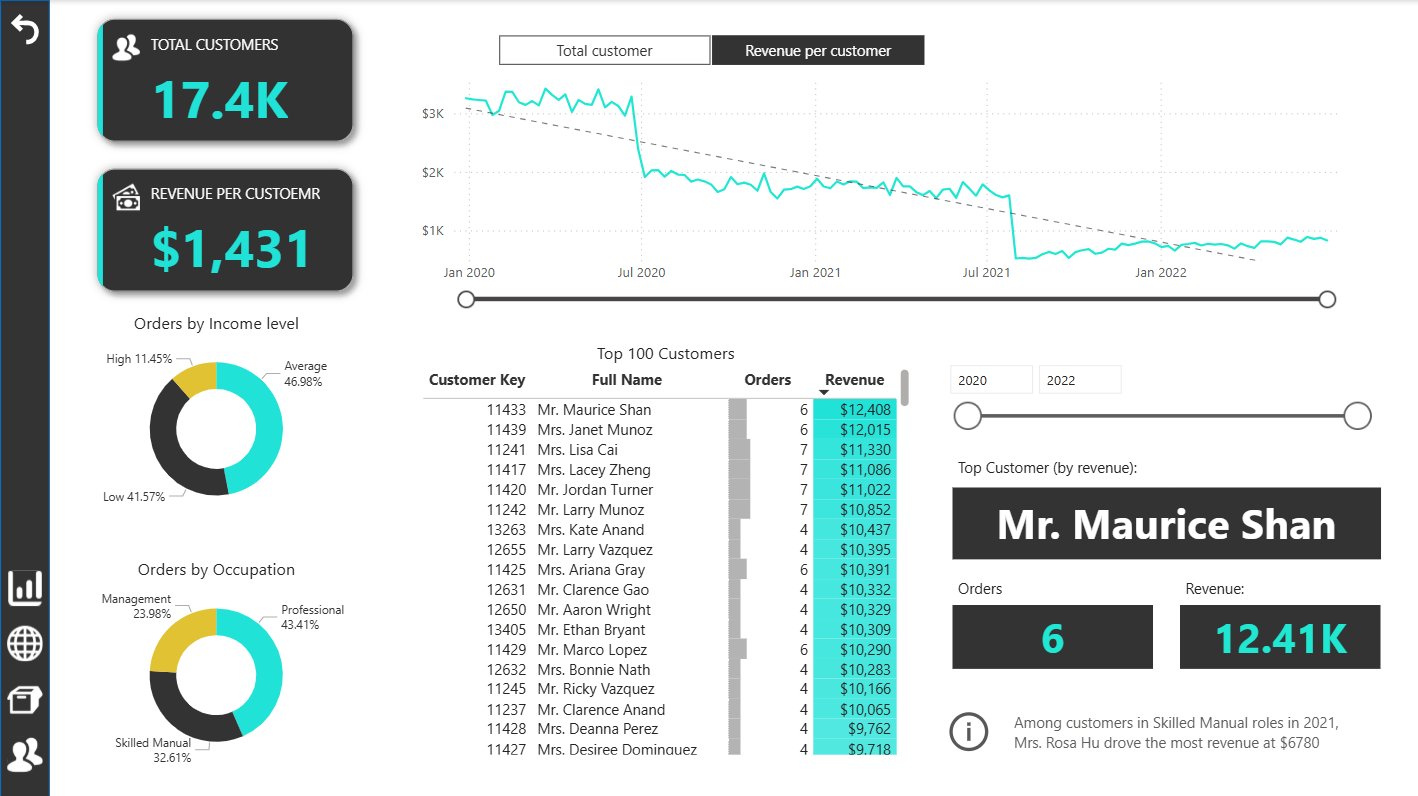

Layout of this report page (visuals, bound fields, positions):
{"tool":"powerbi","page":{"name":"Customer details","canvas":[1280,720],"ordinal":3},"visuals":[{"type":"shape","title":"Left Nav Background","box":[0,0,45,719.5],"z":0},{"type":"actionButton","box":[0,511.1,45.2,40.4],"z":0,"group":"g1"},{"type":"actionButton","box":[0,611.4,45.2,40.4],"z":1000,"group":"g1"},{"type":"lineChart","title":"Customers Trending","fields":{"Y":["Measure Table.AVG Revenue per customer"],"Category":["Calendar Lookup.Date Hierarchy.Start of Year","Calendar Lookup.Date Hierarchy.Start of Month","Calendar Lookup.Date Hierarchy.Start of Week","Calendar Lookup.Date Hierarchy.Date"]},"box":[375.9,62.1,850.6,218.4],"z":2000},{"type":"actionButton","box":[0,661.5,45.2,40.4],"z":2000,"group":"g1"},{"type":"donutChart","title":"Orders by Income level","fields":{"Category":["Customer Lookup.Income level"],"Y":["Measure Table.Total orders"]},"box":[70.4,280.2,250.6,192.6],"z":3000},{"type":"actionButton","box":[0,561.2,45.2,40.4],"z":3000,"group":"g1"},{"type":"donutChart","title":"Orders by Occupation","fields":{"Y":["Measure Table.Total orders"],"Category":["Customer Lookup.Occupation"]},"box":[70.4,502.5,250.6,192.6],"z":4000},{"type":"tableEx","title":"Top 100 Customers","fields":{"Values":["Customer Lookup.CustomerKey","Customer Lookup.Full Name","Measure Table.Total orders","Measure Table.Total Revenue"]},"box":[375.4,308.2,450,377.9],"z":5000},{"type":"slicer","fields":{"Values":["Calendar Lookup.Year"]},"box":[843.8,319.2,401.1,86.8],"z":6000},{"type":"card","fields":{"Values":["Customer Lookup.Full Name (Customer Details)"]},"box":[858.4,440,386.4,64.8],"z":7000},{"type":"textbox","box":[858.4,407.2,221.3,34.2],"z":8000},{"type":"textbox","box":[1063.9,516.2,181,34.2],"z":9000},{"type":"textbox","box":[858.4,516.2,181,34.2],"z":10000},{"type":"card","fields":{"Values":["Measure Table.Total Orders (Customer Details)"]},"box":[858.4,545.1,181,57.5],"z":11000},{"type":"card","fields":{"Values":["Measure Table.Total Revenue (Customer Details)"]},"box":[1063.9,545.1,181,57.5],"z":12000},{"type":"actionButton","box":[843.8,626.1,382.7,68.5],"z":13000},{"type":"actionButton","box":[0,0,45.2,51.4],"z":14000},{"type":"group","id":"g1","title":"Navigation Icon","box":[0,511.1,45.2,190.8],"z":15000},{"type":"slicer","fields":{"Values":["Customer metric selection.Customer metric selection"]},"box":[424.1,25.3,433.3,36.8],"z":16000},{"type":"cardVisual","title":"KPIs","fields":{"Data":["Measure Table.Total customer","Measure Table.AVG Revenue per customer"]},"box":[70.9,0,265.4,281.3],"z":17000}]}

Visuals, with their boxes on the page's 1280x720 design canvas (x1, y1, x2, y2). These are canvas units, not pixel positions in the 1418x796 screenshot, which may show the page scaled, cropped or inside an application window:
"Left Nav Background" shape: [x1=0, y1=0, x2=45, y2=720]
actionButton: [x1=0, y1=511, x2=45, y2=552]
actionButton: [x1=0, y1=611, x2=45, y2=652]
"Customers Trending" lineChart: [x1=376, y1=62, x2=1226, y2=280]
actionButton: [x1=0, y1=662, x2=45, y2=702]
"Orders by Income level" donutChart: [x1=70, y1=280, x2=321, y2=473]
actionButton: [x1=0, y1=561, x2=45, y2=602]
"Orders by Occupation" donutChart: [x1=70, y1=502, x2=321, y2=695]
"Top 100 Customers" tableEx: [x1=375, y1=308, x2=825, y2=686]
slicer - Calendar Lookup.Year: [x1=844, y1=319, x2=1245, y2=406]
card - Customer Lookup.Full Name (Customer Details): [x1=858, y1=440, x2=1245, y2=505]
textbox: [x1=858, y1=407, x2=1080, y2=441]
textbox: [x1=1064, y1=516, x2=1245, y2=550]
textbox: [x1=858, y1=516, x2=1039, y2=550]
card - Measure Table.Total Orders (Customer Details): [x1=858, y1=545, x2=1039, y2=603]
card - Measure Table.Total Revenue (Customer Details): [x1=1064, y1=545, x2=1245, y2=603]
actionButton: [x1=844, y1=626, x2=1226, y2=695]
actionButton: [x1=0, y1=0, x2=45, y2=51]
"Navigation Icon" group: [x1=0, y1=511, x2=45, y2=702]
slicer - Customer metric selection.Customer metric selection: [x1=424, y1=25, x2=857, y2=62]
"KPIs" cardVisual: [x1=71, y1=0, x2=336, y2=281]
